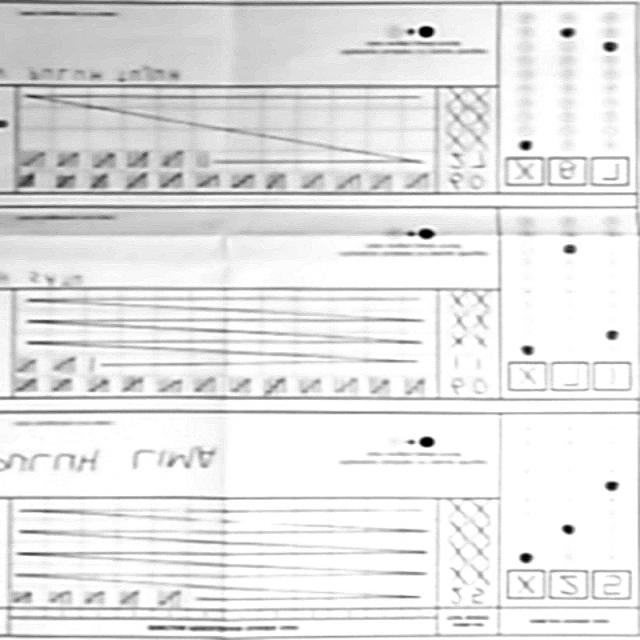Suara: (502, 566, 633, 609), (502, 359, 634, 397), (498, 153, 632, 190)
